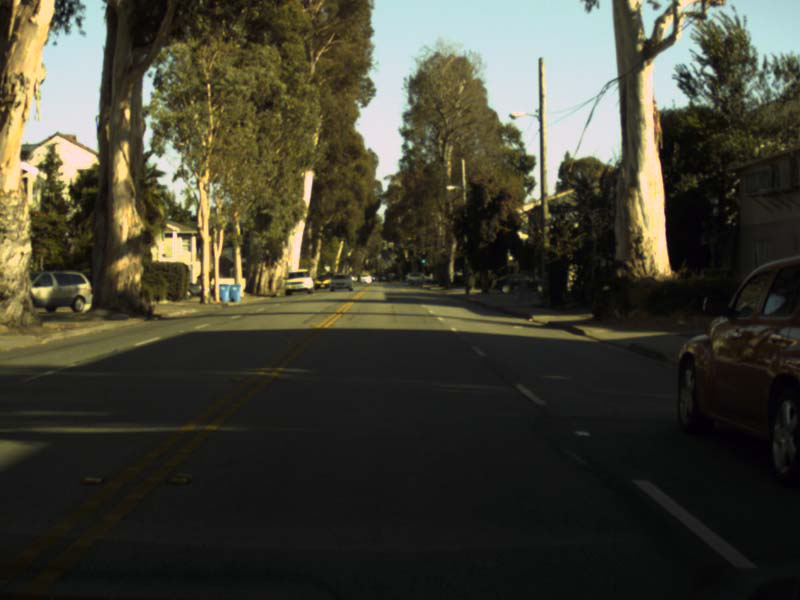Green: (421, 253, 424, 264)
